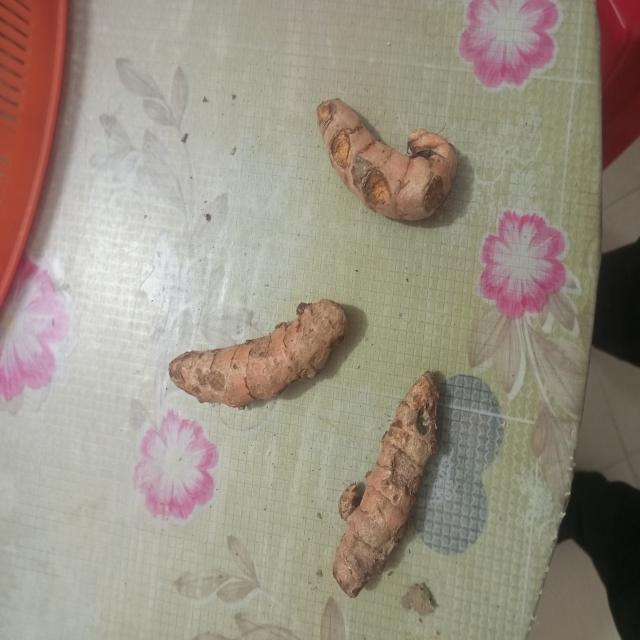ginger: (340, 368, 440, 596), (318, 91, 461, 223), (170, 298, 350, 393)
